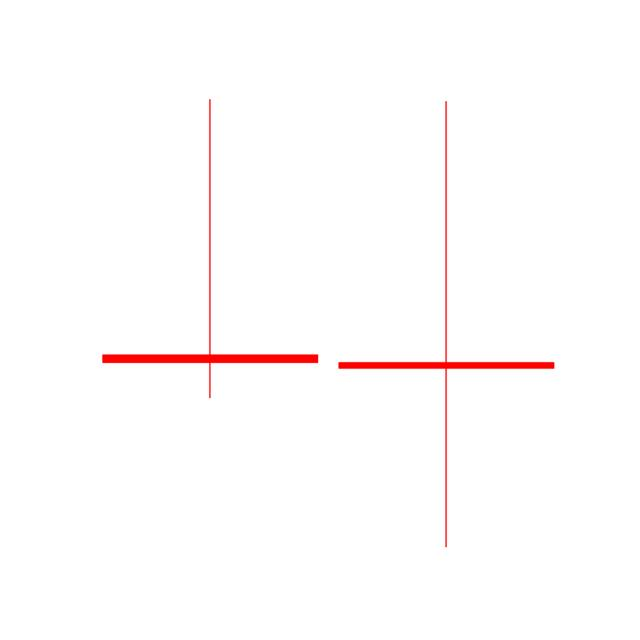Standard Doji: (327, 95, 565, 552)
